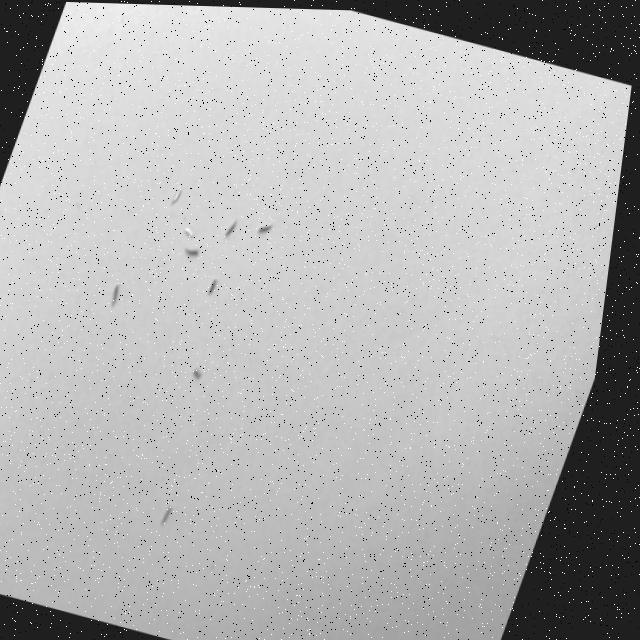Wereng: (99, 275, 132, 319), (216, 211, 241, 246), (154, 496, 177, 531), (165, 183, 189, 216), (250, 215, 277, 244), (200, 272, 223, 306), (175, 241, 201, 263), (187, 361, 208, 384), (177, 222, 199, 239)
